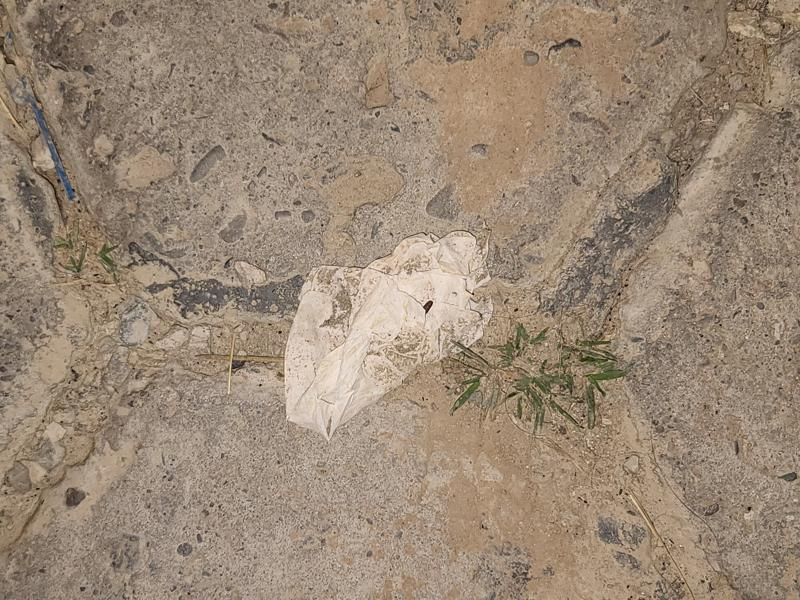papel: (283, 233, 493, 439)
